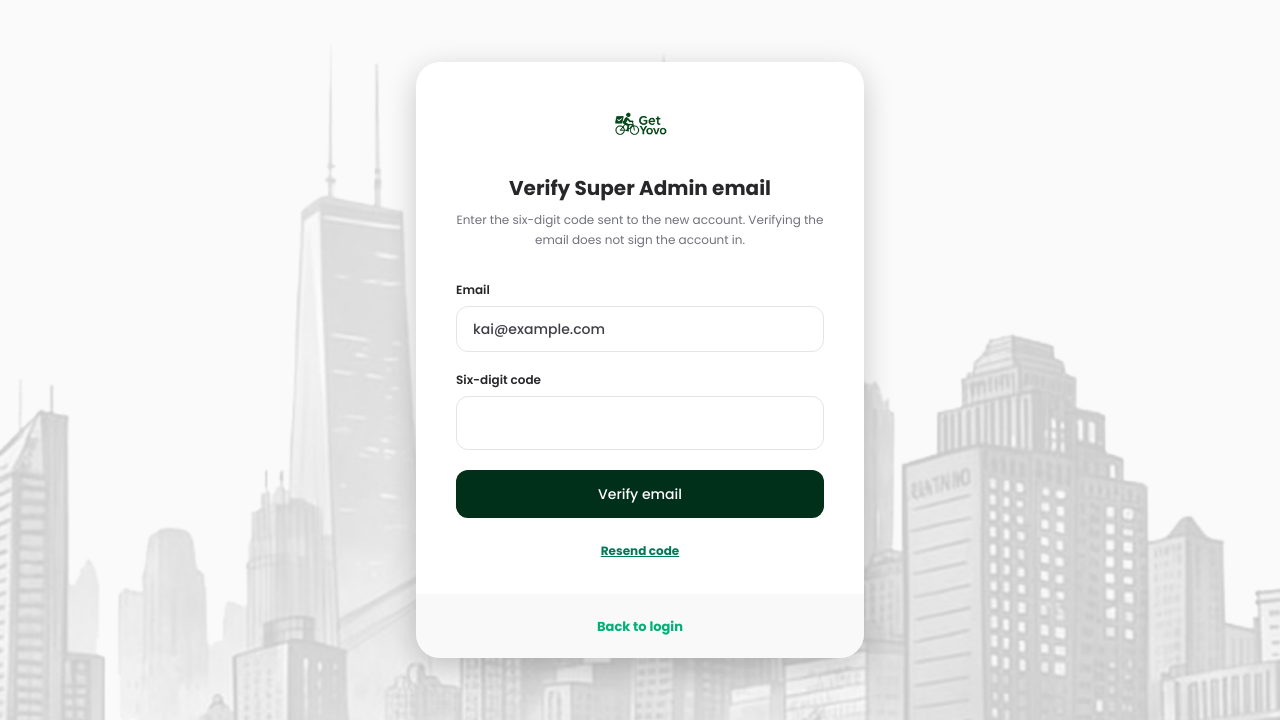
Test: Super Admin email verification › shows invalid, expired, already verified, and unknown email responses separately
Type "111111" into the field labelled "Six-digit code".
click(640, 423); type("111111")  # box left=456, top=396, right=824, bottom=450
Click the button "Verify email".
click(640, 494)  # box left=456, top=470, right=824, bottom=518
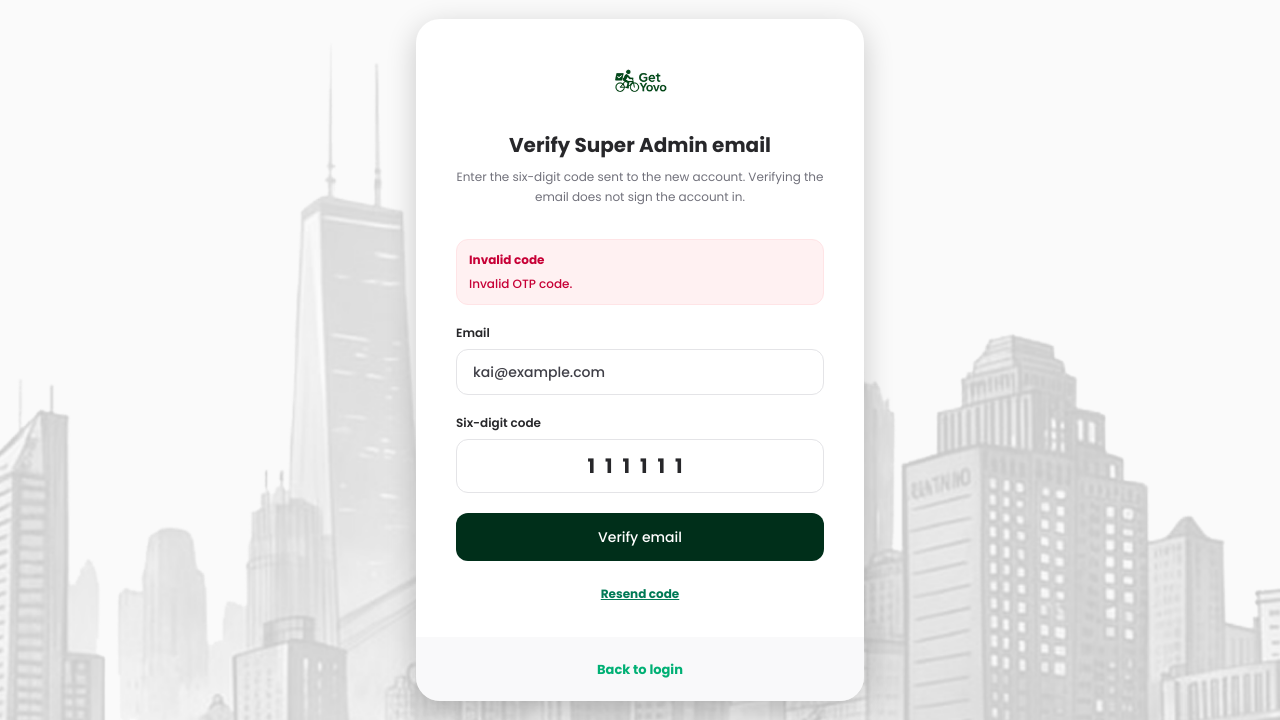
Expected: the text "Invalid OTP code." shows "Invalid code", left=469, top=251, right=544, bottom=268
Expected: the text "Invalid OTP code." is shown, left=469, top=275, right=572, bottom=292
Replace the text in the field labelled "Six-digit code" with "222222" at (640, 466), box left=456, top=439, right=824, bottom=493
Click the button "Verify email".
click(640, 537)  # box left=456, top=513, right=824, bottom=561
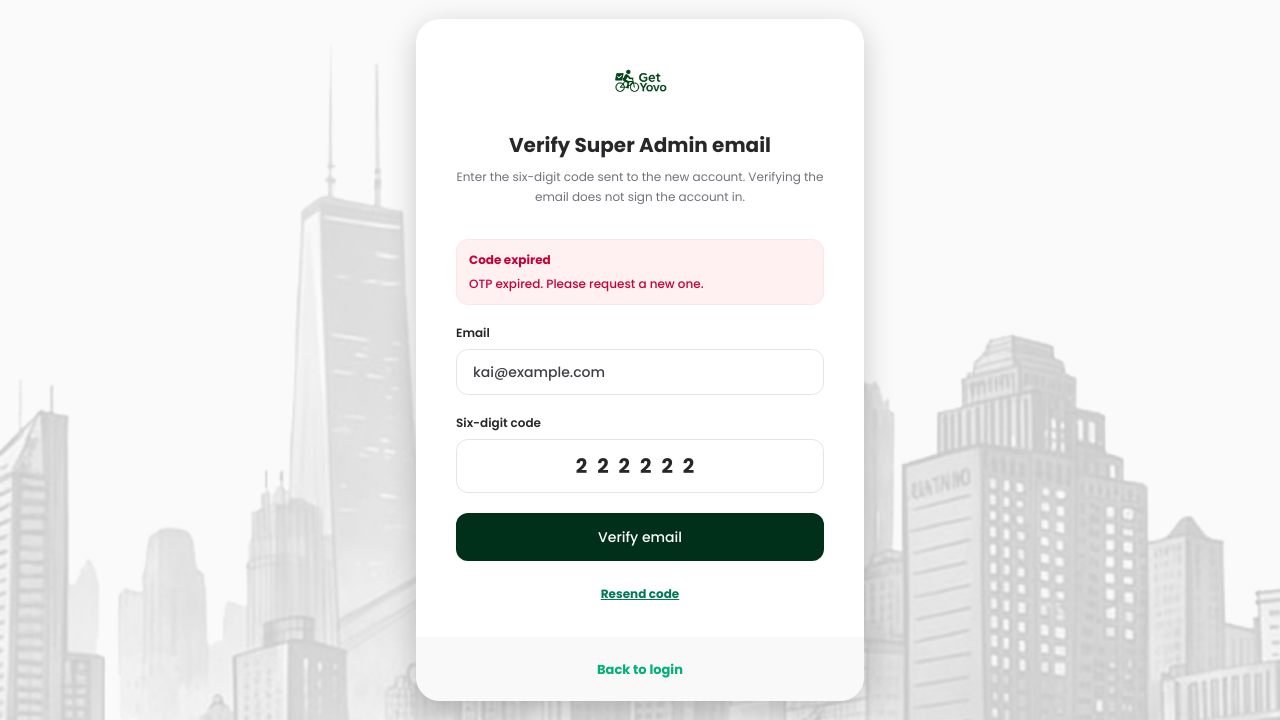
Expected: the text "OTP expired. Please request a new one." shows "Code expired", left=469, top=251, right=551, bottom=268
Expected: the text "OTP expired. Please request a new one." is shown, left=469, top=275, right=704, bottom=292
Replace the text in the field labelled "Six-digit code" with "333333" at (640, 466), box left=456, top=439, right=824, bottom=493
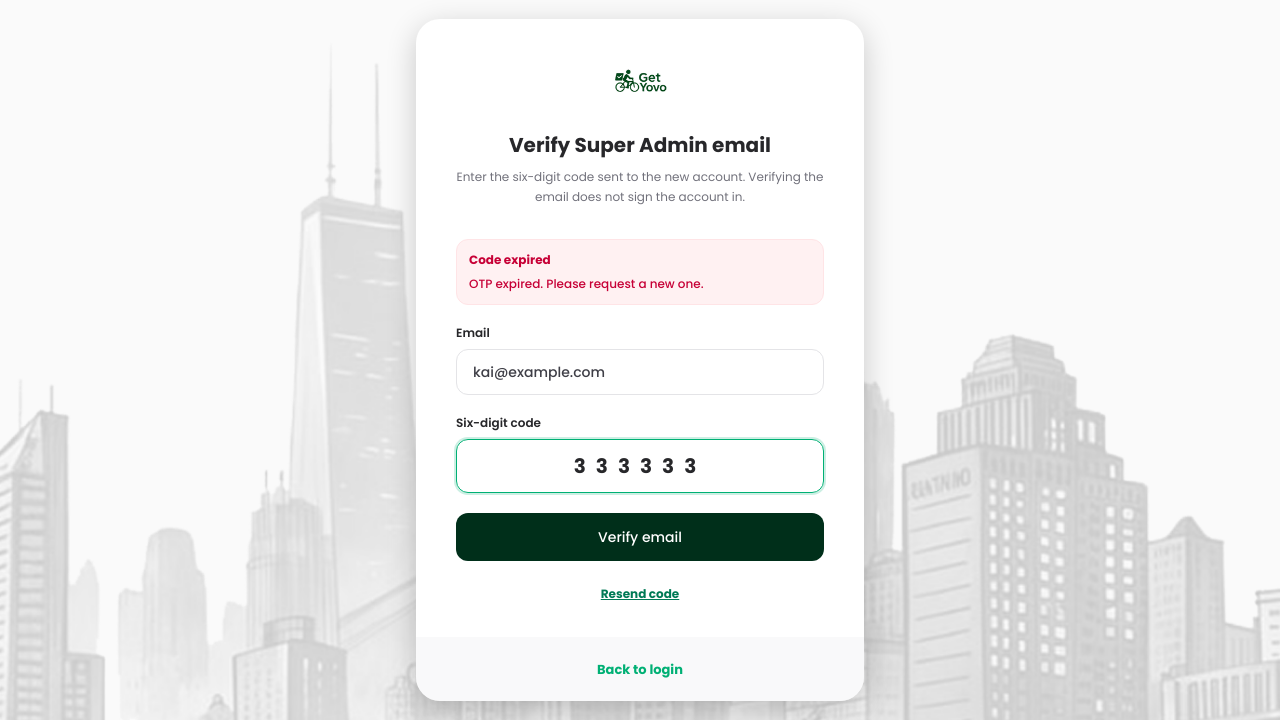
Click the button "Verify email".
click(640, 537)  # box left=456, top=513, right=824, bottom=561
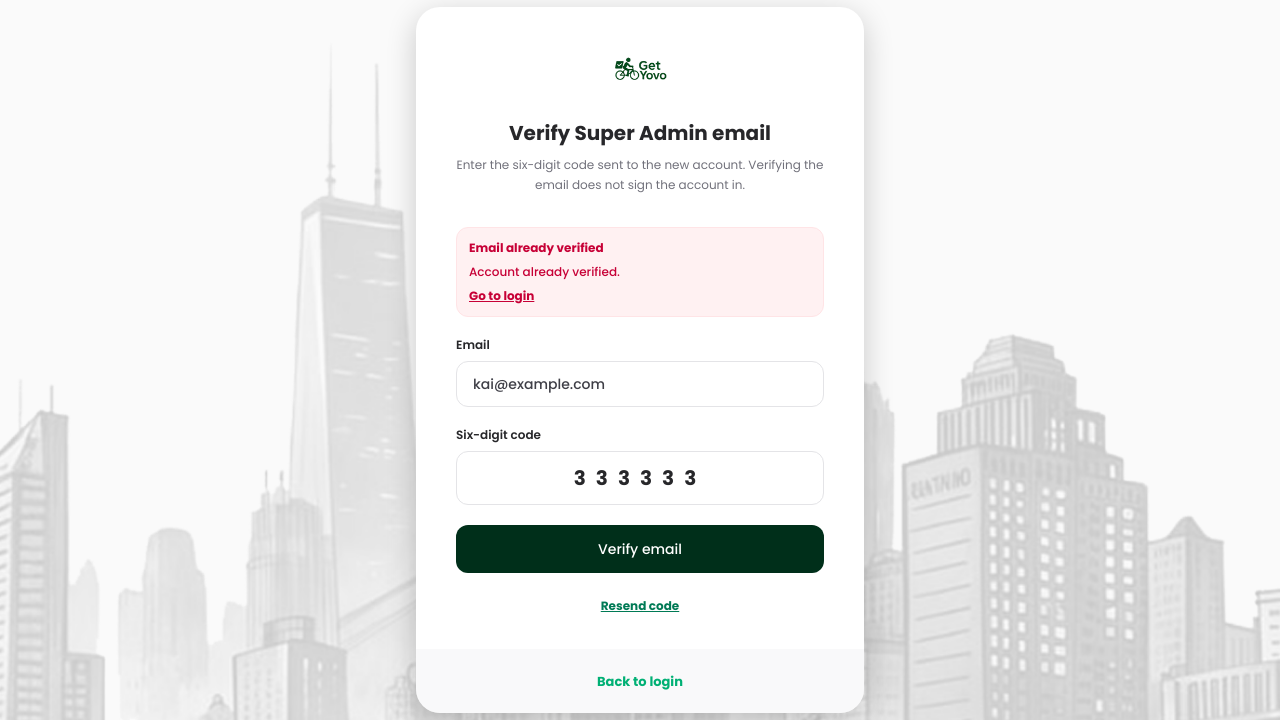
Expected: the text "Account already verified." shows "Email already verified", left=469, top=239, right=604, bottom=256
Expected: the text "Account already verified." is shown, left=469, top=263, right=620, bottom=280
Expected: the link "Go to login" is shown, left=469, top=288, right=534, bottom=304
Replace the text in the field labelled "Six-digit code" with "444444" at (640, 478), box left=456, top=451, right=824, bottom=505
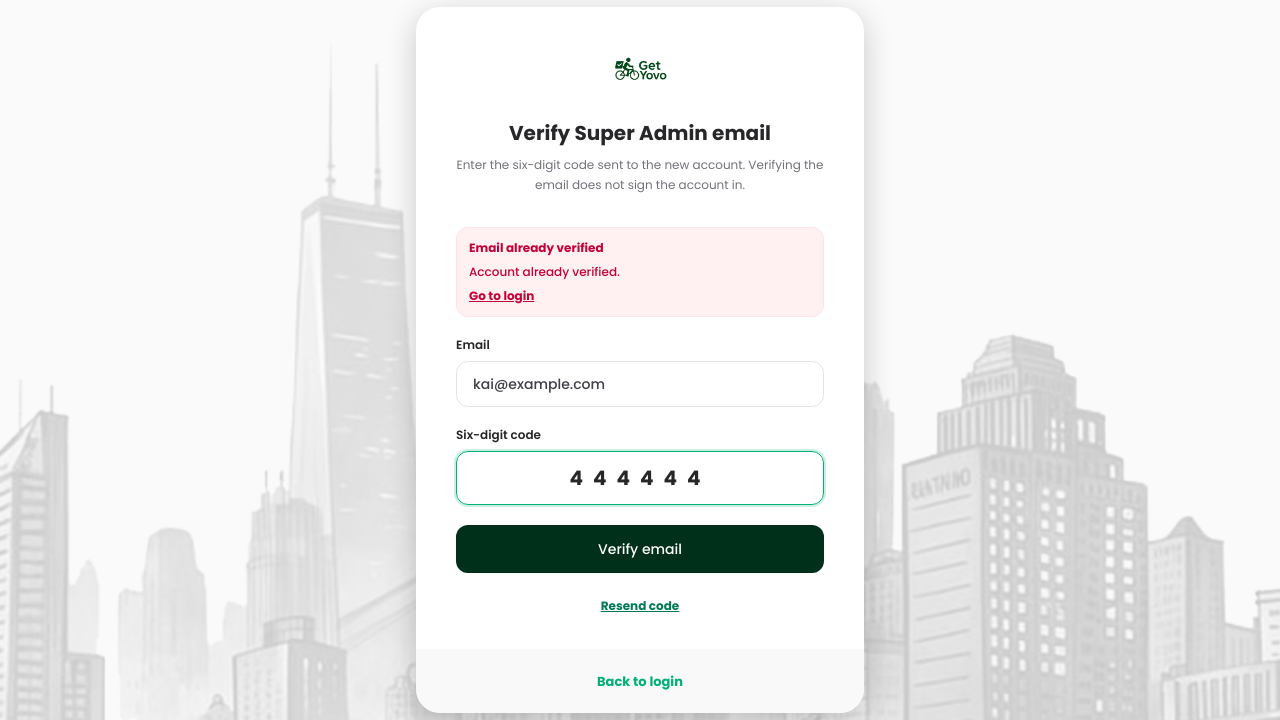
Click the button "Verify email".
click(640, 549)  # box left=456, top=525, right=824, bottom=573
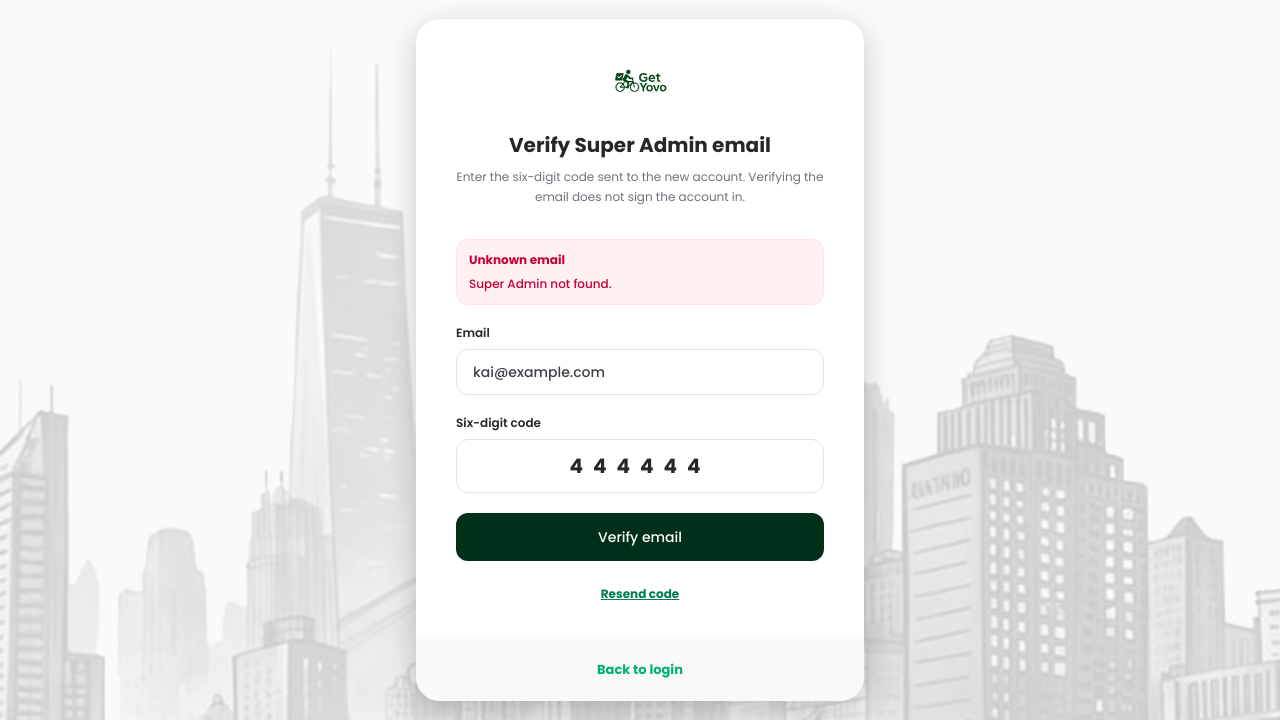
Expected: the text "Super Admin not found." shows "Unknown email", left=469, top=251, right=565, bottom=268
Expected: the text "Super Admin not found." is shown, left=469, top=275, right=612, bottom=292
